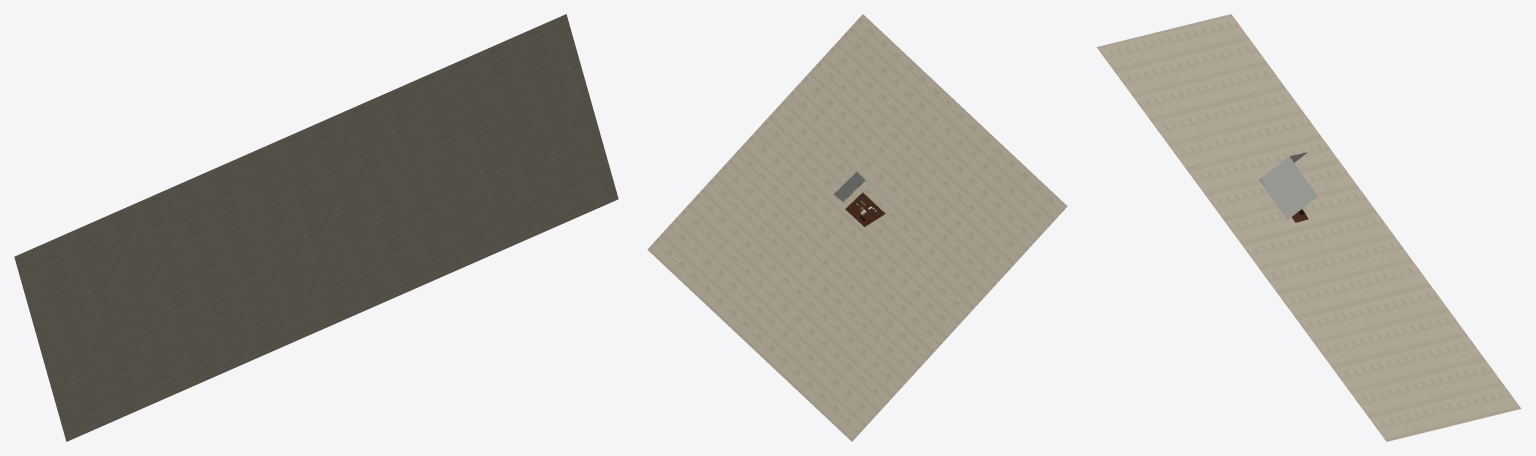
The model's file is viga.glb.
The picture shows the model from 3 angles, left to right: view 1: azimuth 30°, elevation 25°; view 2: azimuth 150°, elevation 25°; view 3: azimuth 270°, elevation 25°; orthographic projection. The views are drawn at different scales.
Parts seen in each view (by area): view 1: Oak floor; view 2: Oak floor, Walnut tabletop; view 3: Oak floor, Wall_0.
Part boxes in pixels (x1,y1,x2,y2): Oak floor: (14, 14, 618, 441); Oak floor: (647, 14, 1067, 441); Walnut tabletop: (845, 192, 885, 226); Oak floor: (1096, 14, 1521, 441); Wall_0: (1260, 156, 1317, 219).
Size of the model in its own units: 21.4 by 16.37 by 13.79.
Materials: 18 (10 with a texture image).
